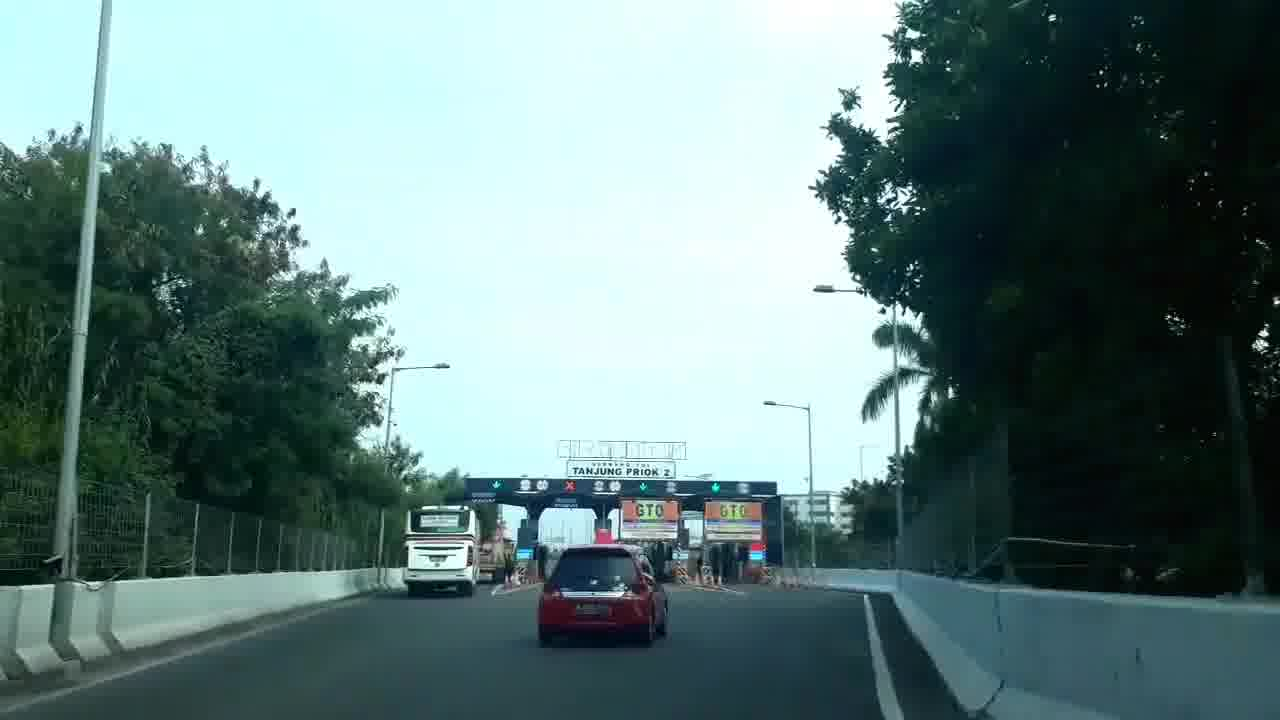plate_positive: (575, 603, 612, 615)
